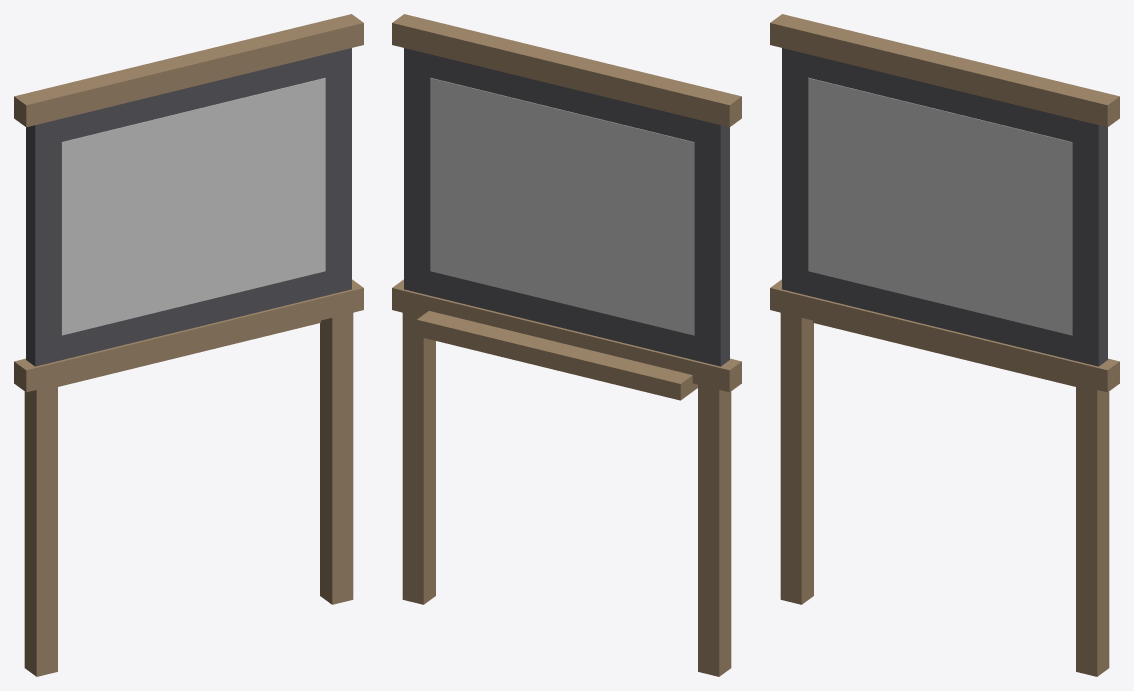
File: kids_quadro_negro.glb
3 views of the same model, side by side, from view 1: azimuth 30°, elevation 25°; view 2: azimuth 150°, elevation 25°; view 3: azimuth 330°, elevation 25° (orthographic).
Parts seen in each view (by area): view 1: KIDS_QUADRO_NEGRO_v01; view 2: KIDS_QUADRO_NEGRO_v01; view 3: KIDS_QUADRO_NEGRO_v01.
Part boxes in pixels (x1,y1,x2,y2): KIDS_QUADRO_NEGRO_v01: (14,14,363,676); KIDS_QUADRO_NEGRO_v01: (392,14,741,676); KIDS_QUADRO_NEGRO_v01: (770,14,1119,676).
Bounding box in the file's own units: 0.64 × 1.04 × 0.08.
